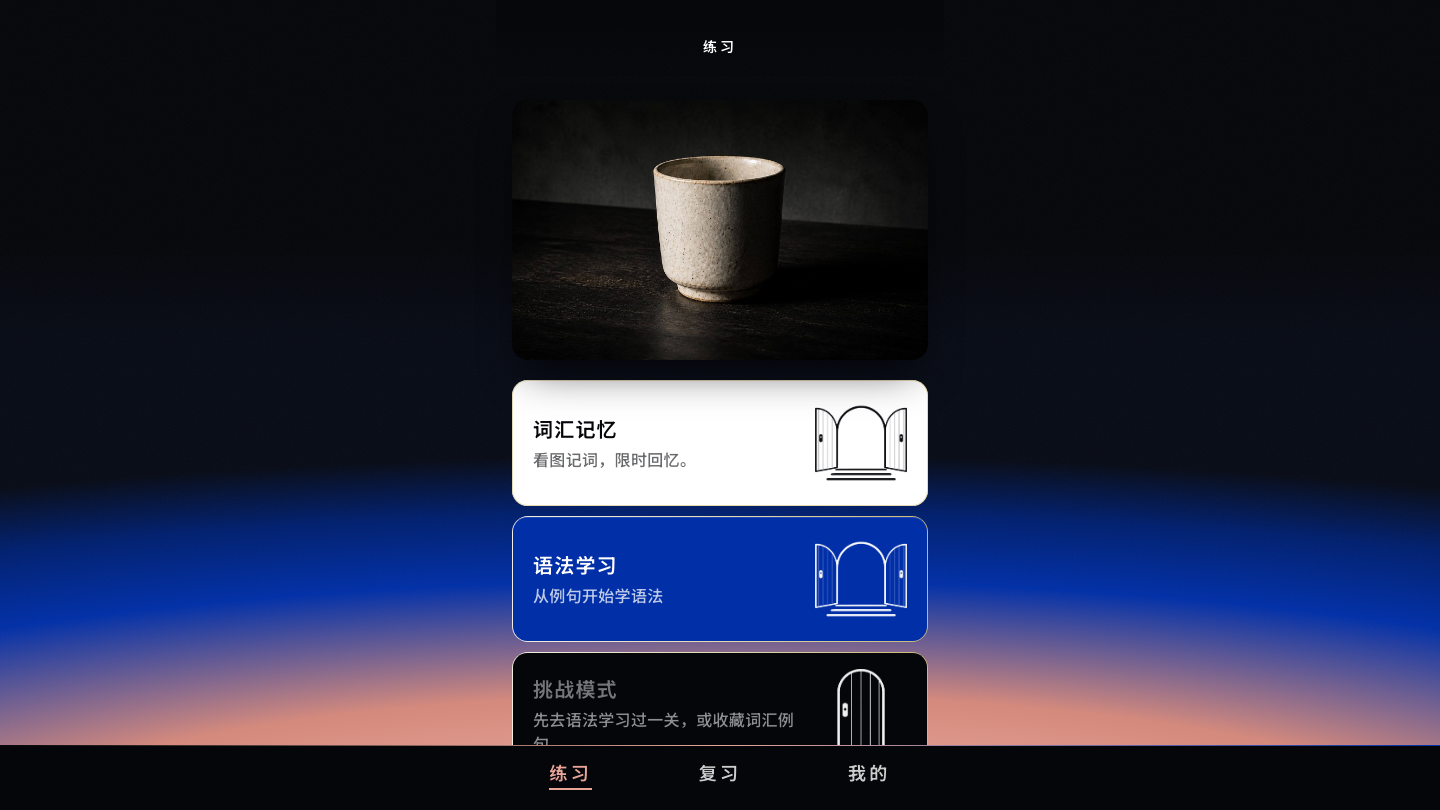
Test: practice home › starts the picture loop only after choosing 词汇记忆
The image size is (1440, 810).
Click the link "词汇记忆 看图记词，限时回忆。".
click(720, 443)  # box top-left (512, 380), bottom-right (928, 506)
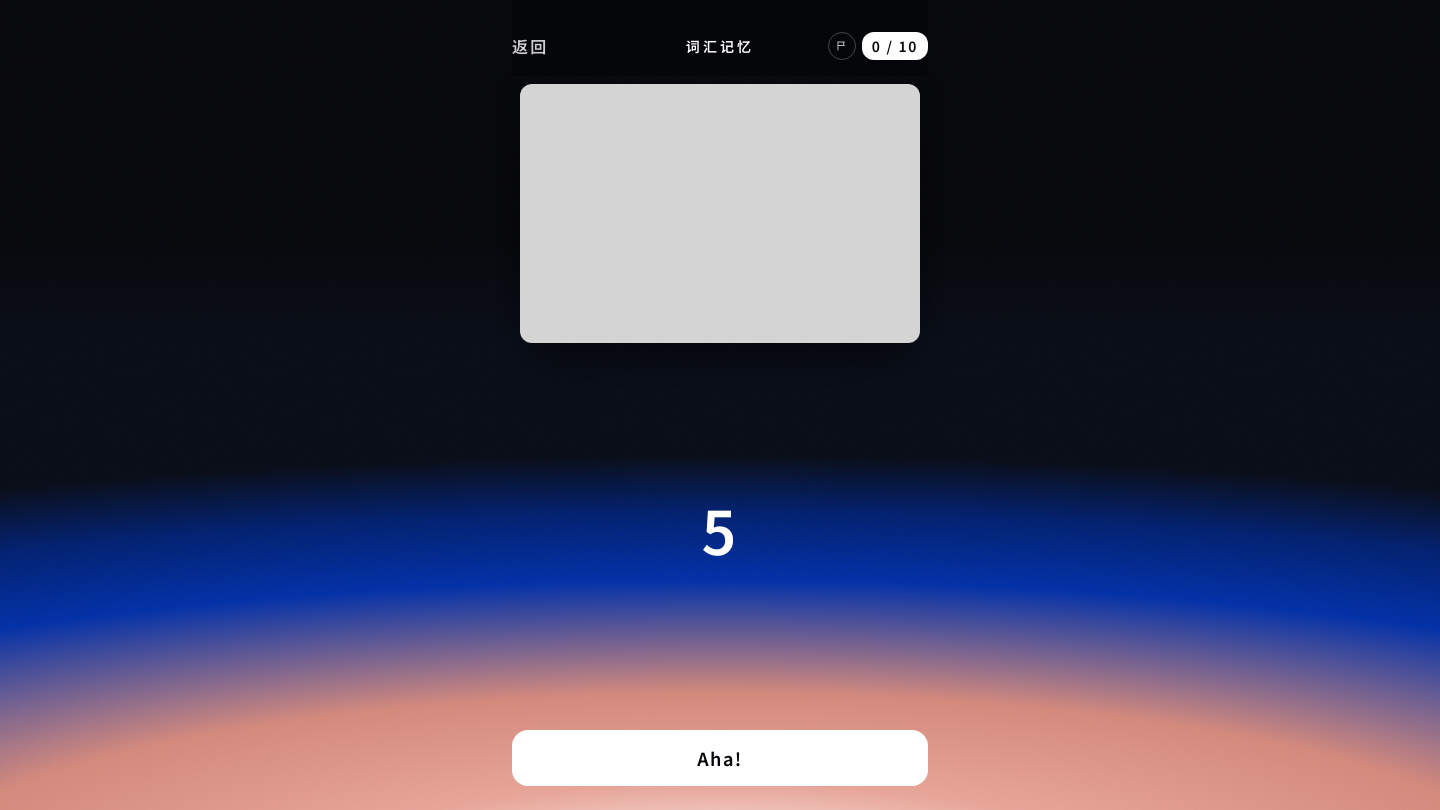
Expected: the button "Aha!" is shown, top-left (512, 730), bottom-right (928, 786)
